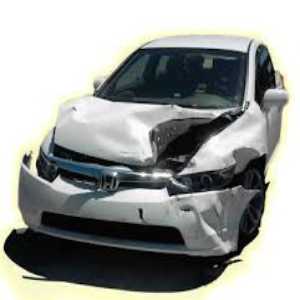bonnet: (66, 97, 204, 169)
bumper: (6, 180, 270, 256)
